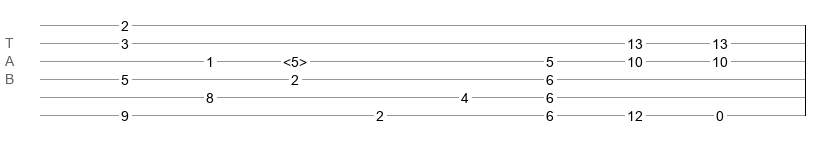0: (716, 108, 724, 118)
1: (206, 54, 214, 64)
10: (627, 54, 643, 64), (712, 54, 728, 64)
12: (627, 108, 643, 118)
13: (627, 36, 643, 46), (712, 36, 728, 46)
2: (121, 18, 129, 28), (291, 72, 299, 82), (376, 108, 384, 118)
3: (121, 36, 129, 46)
4: (461, 90, 469, 100)
5: (121, 72, 129, 82), (546, 54, 554, 64)
6: (546, 108, 554, 118), (546, 90, 554, 100), (546, 72, 554, 82)
8: (206, 90, 214, 100)
9: (121, 108, 129, 118)
harmonic: (283, 54, 307, 64)
